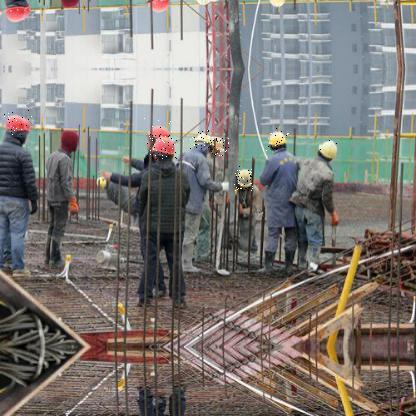safetyhelmet: (144, 118, 173, 148), (4, 110, 34, 138), (149, 136, 178, 162), (317, 140, 342, 166), (266, 127, 290, 152), (234, 166, 254, 192), (190, 130, 213, 151), (208, 138, 230, 158)
